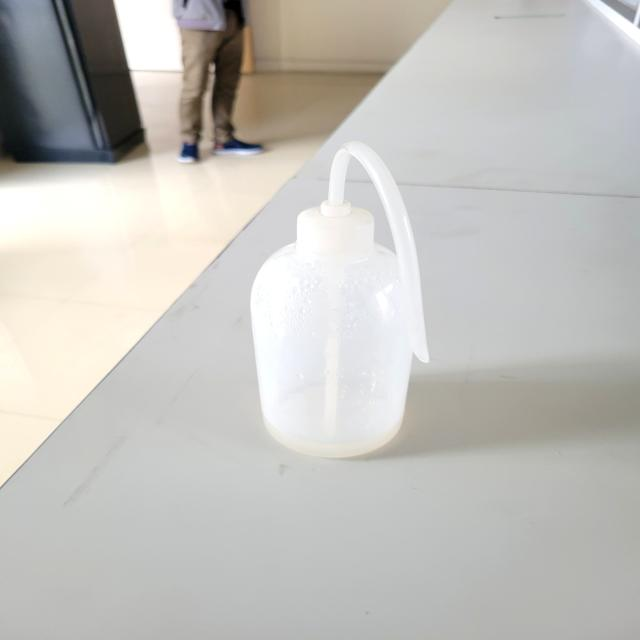Wash_Bottle: (252, 137, 455, 474)
